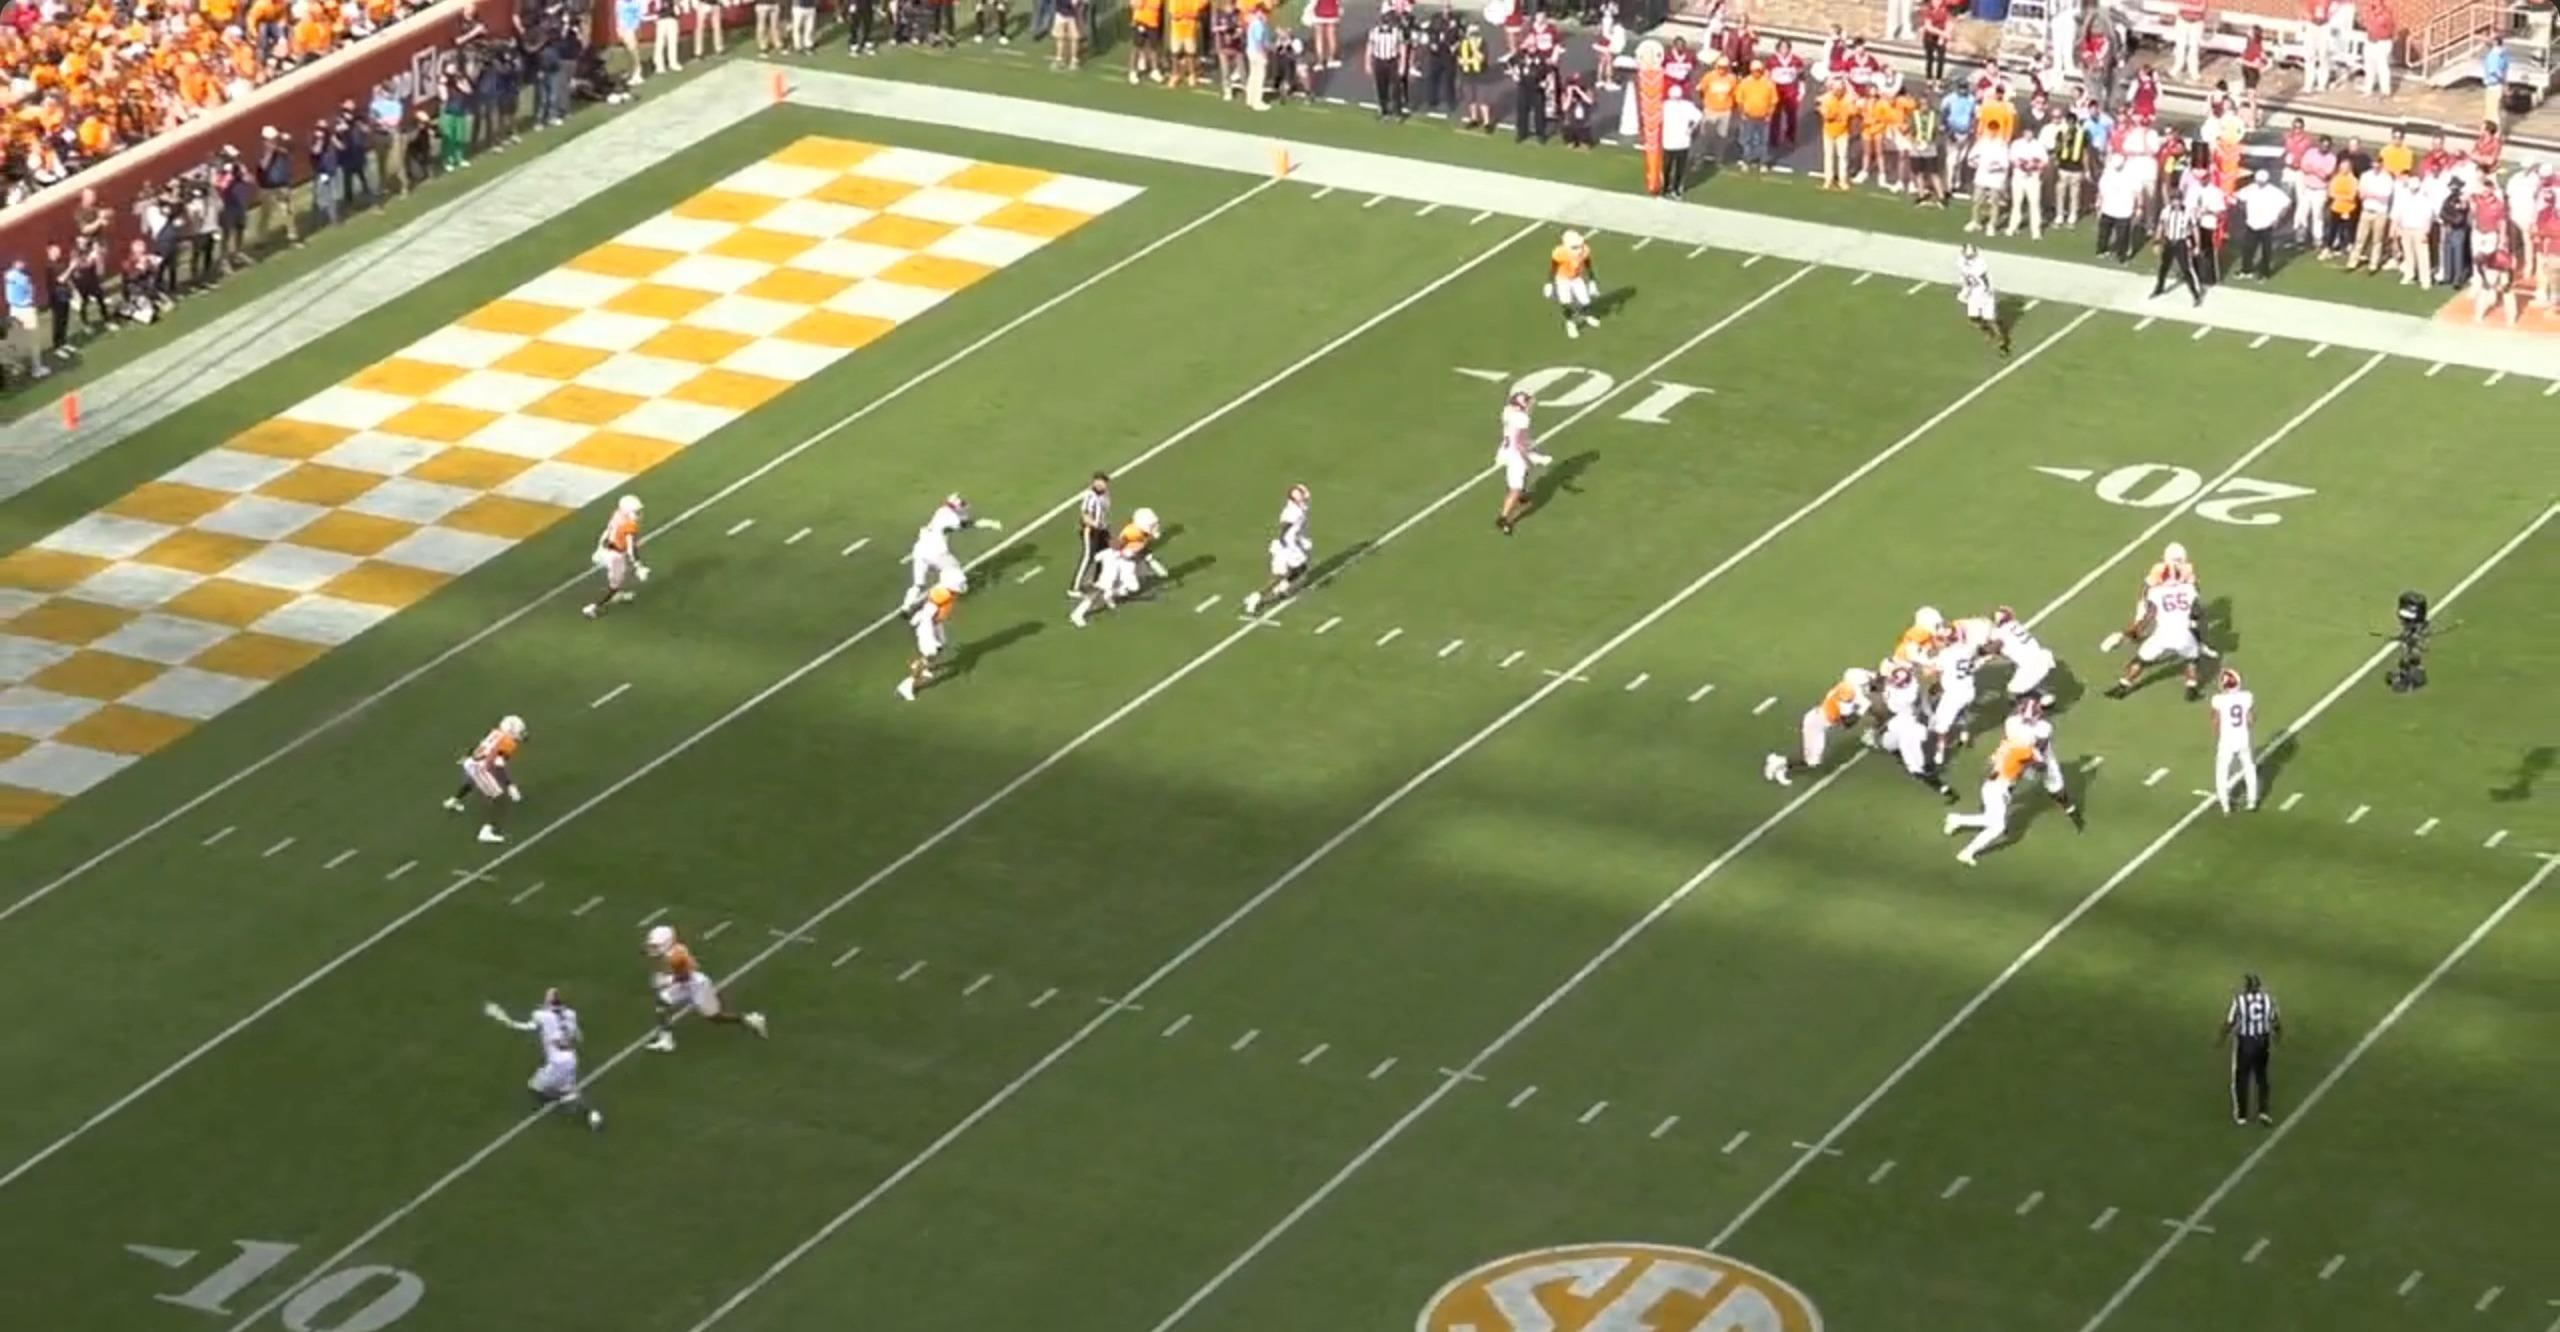defense: (630, 925, 764, 1068), (1945, 724, 2052, 867), (1764, 663, 1880, 791), (441, 708, 533, 843), (1069, 506, 1168, 627), (907, 565, 971, 706), (574, 492, 643, 620), (1543, 224, 1607, 339), (1885, 608, 1944, 670), (2142, 541, 2199, 587), (1948, 611, 1993, 644)
oline: (2109, 580, 2216, 712), (2014, 692, 2101, 835), (1872, 663, 1956, 806), (1963, 600, 2055, 707), (1925, 621, 1986, 768)
qb: (2210, 665, 2271, 821)
ref: (2213, 970, 2283, 1132), (2144, 186, 2209, 310)
skill: (482, 989, 609, 1134), (1482, 389, 1550, 541), (903, 494, 975, 622), (1260, 487, 1322, 611), (1956, 244, 2020, 361)
